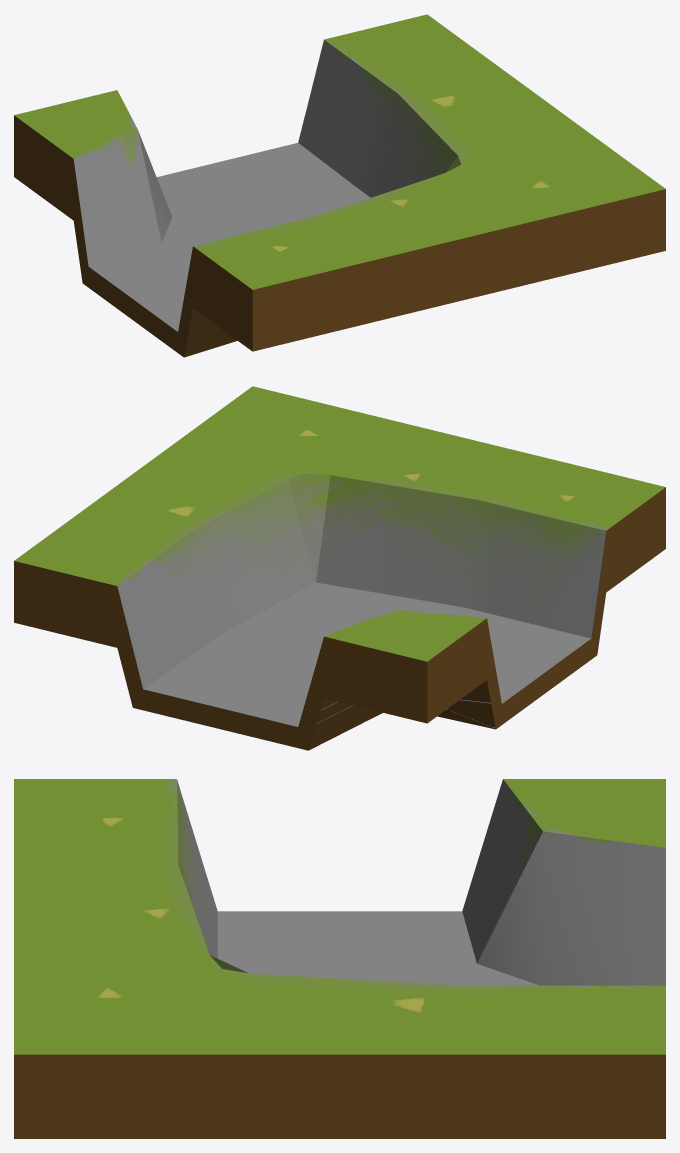
Rendered from riverCurve.fbx.
The picture shows the model from 3 angles, top to bottom: view 1: azimuth 30°, elevation 25°; view 2: azimuth 150°, elevation 25°; view 3: azimuth 270°, elevation 25°; orthographic projection. The views are drawn at different scales.
Parts seen in each view (by area): view 1: RiverCurve; view 2: RiverCurve; view 3: RiverCurve.
Part boxes in pixels (x1,y1,x2,y2): RiverCurve: [14, 14, 665, 357]; RiverCurve: [14, 386, 665, 750]; RiverCurve: [14, 779, 665, 1138].
Size of the model in its own units: 200 by 54.54 by 200.
Materials: 1 (1 with a texture image).
